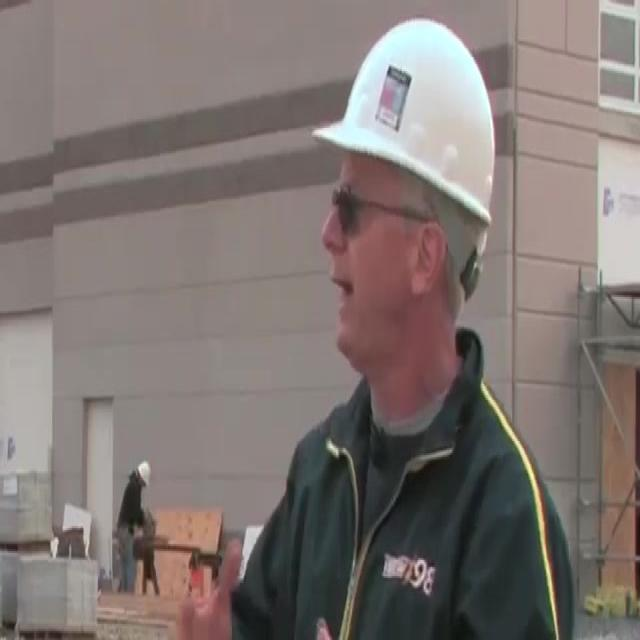Safety-Helmet: (313, 10, 508, 244), (134, 455, 155, 489)
